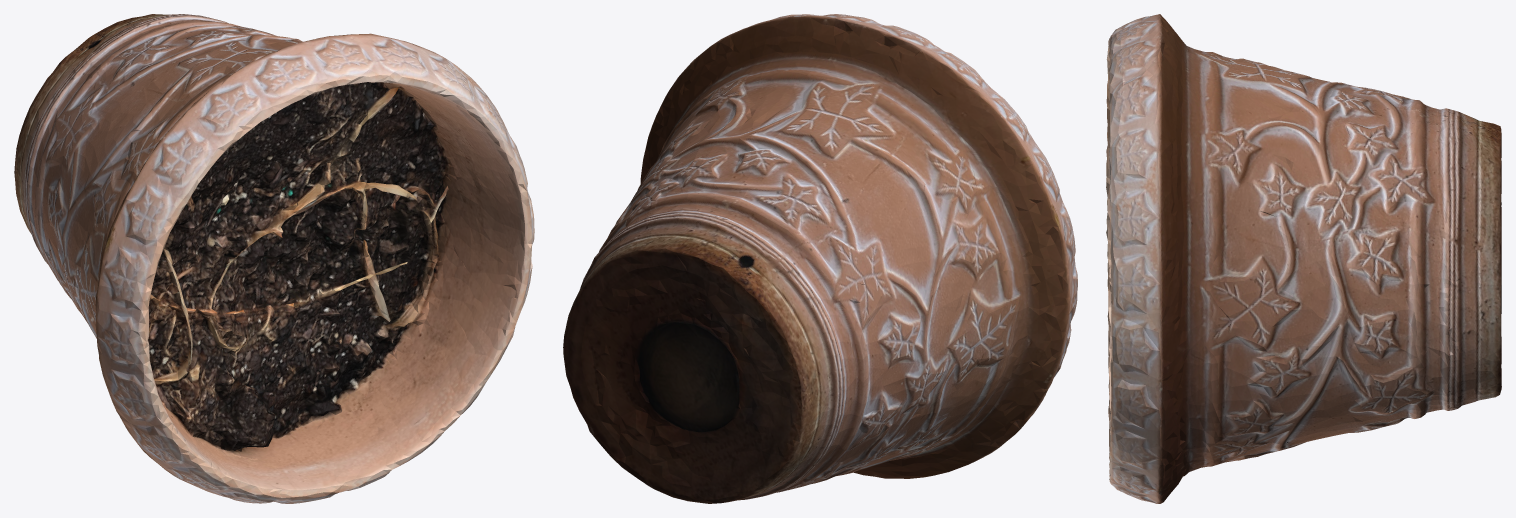
The picture shows the model from 3 angles, left to right: view 1: azimuth 30°, elevation 25°; view 2: azimuth 150°, elevation 25°; view 3: azimuth 270°, elevation 25°; orthographic projection. The views are drawn at different scales.
Bounding box in the file's own units: 0.9947 × 1 × 0.8096.
